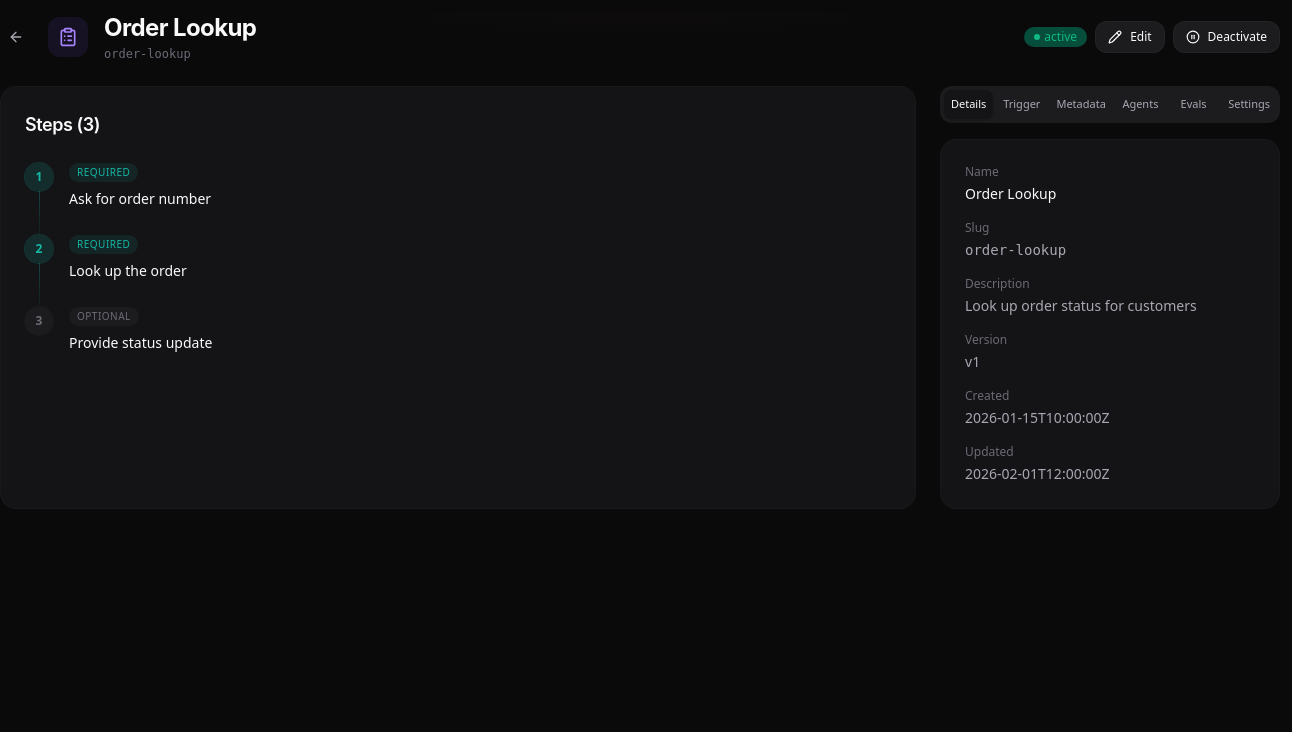
SopDetailPage › switches sidebar tabs to show different content
Expected: the button "Details" is shown, [944, 90, 993, 118]
Note: Click Agents tab
Click the button "Agents": {"x": 1140, "y": 104} [1116, 90, 1165, 118]
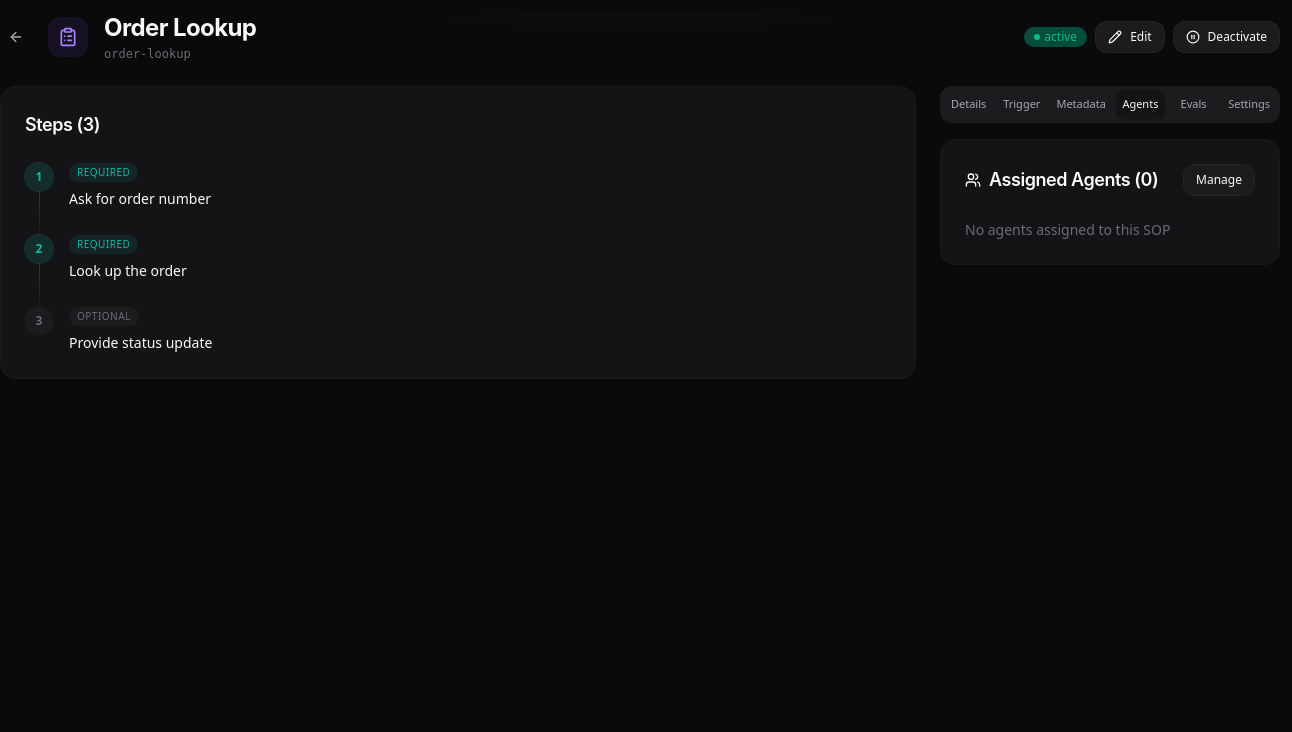
Expected: the heading "Assigned Agents (0)" is shown, [965, 166, 1158, 194]
Note: Click Trigger tab
Click the button "Trigger": {"x": 1022, "y": 104} [997, 90, 1046, 118]
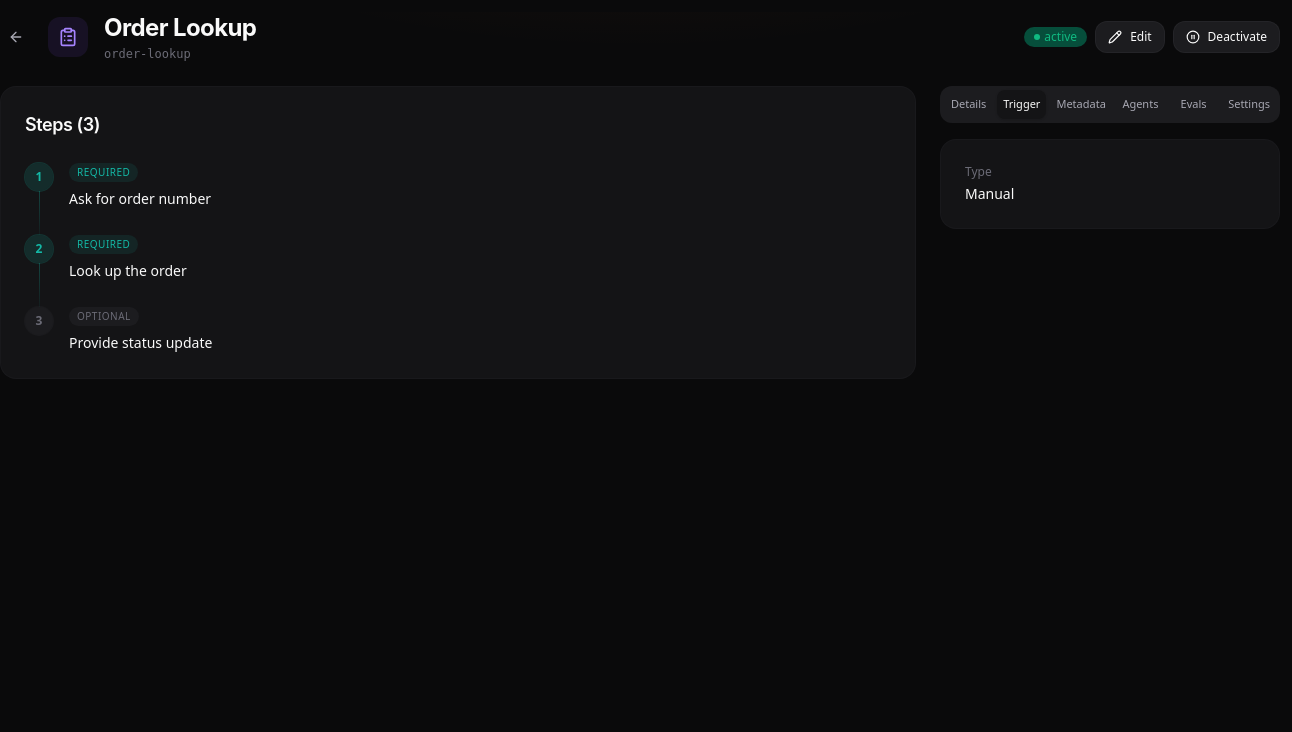
Expected: the text "Type" is shown, [965, 162, 992, 180]
